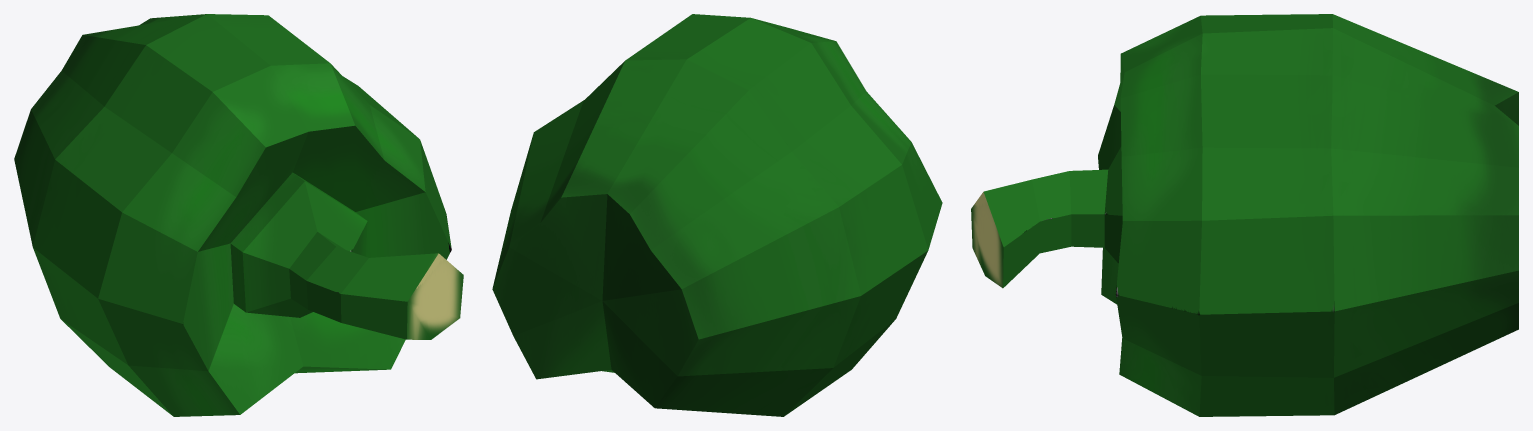
Rendered from GreenPepper_ani New.fbx.
The picture shows the model from 3 angles, left to right: view 1: azimuth 30°, elevation 25°; view 2: azimuth 150°, elevation 25°; view 3: azimuth 270°, elevation 25°; orthographic projection. The views are drawn at different scales.
Parts seen in each view (by area): view 1: Sphere; view 2: Sphere; view 3: Sphere.
Part boxes in pixels (<box>): Sphere: <box>14,14,463,416</box>; Sphere: <box>492,14,942,416</box>; Sphere: <box>971,14,1518,416</box>.
Bounding box in the file's own units: 195 × 177 × 258.
1 material, 1 textured.
